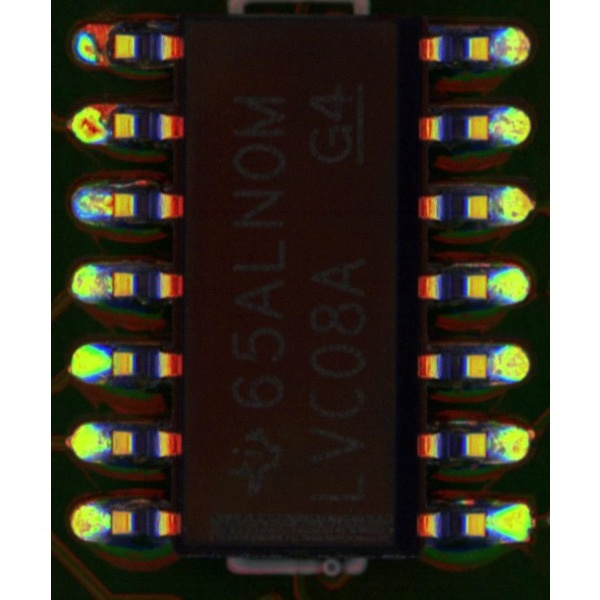Bad_podu: (100, 194, 122, 215)
